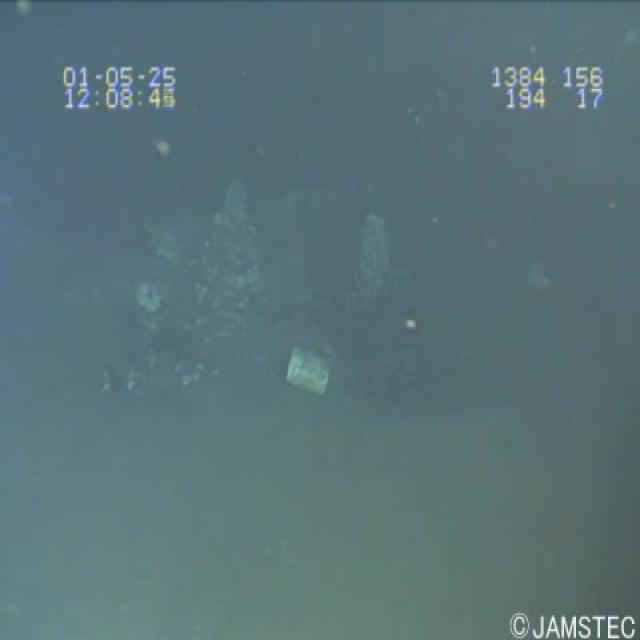plastic: (276, 336, 337, 409)
